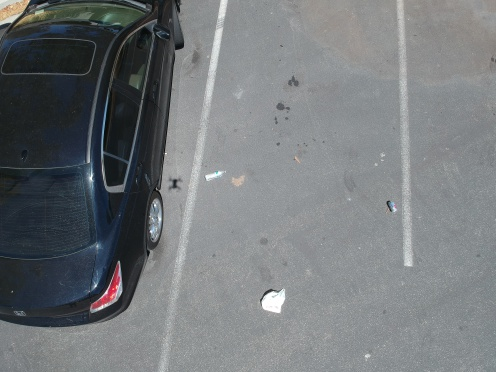bottle: (202, 166, 230, 182)
can: (386, 197, 399, 216)
plastic bag: (256, 284, 288, 316)
